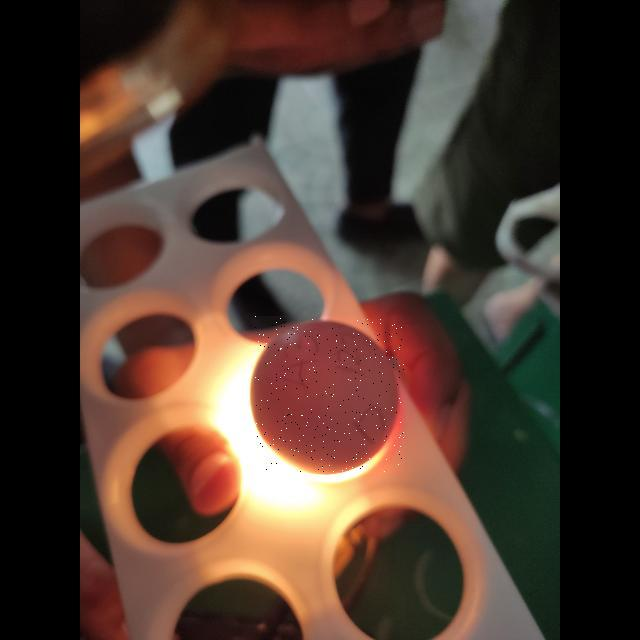Fertile: (252, 316, 404, 474)
